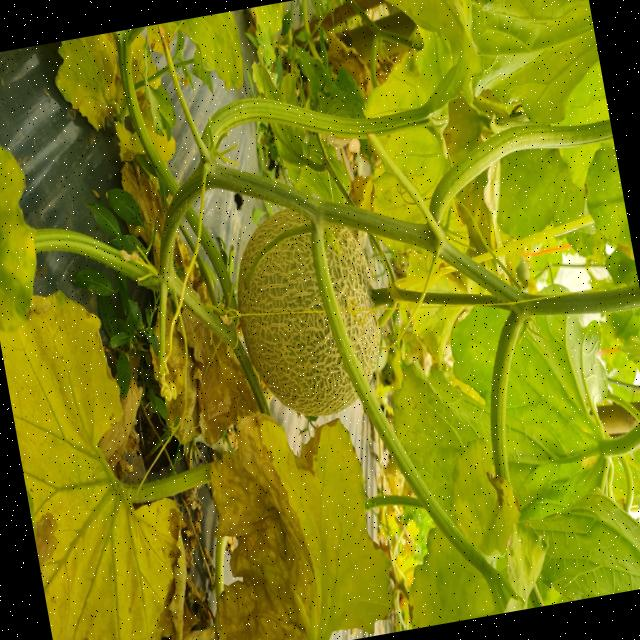melon: (236, 208, 356, 416), (325, 226, 378, 379)
